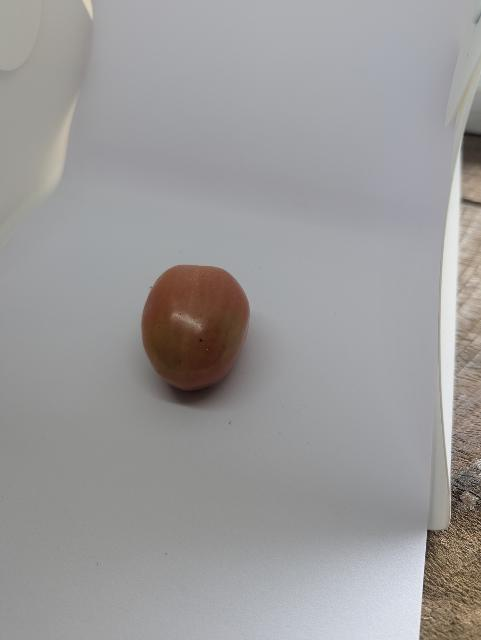red: (125, 254, 266, 404)
